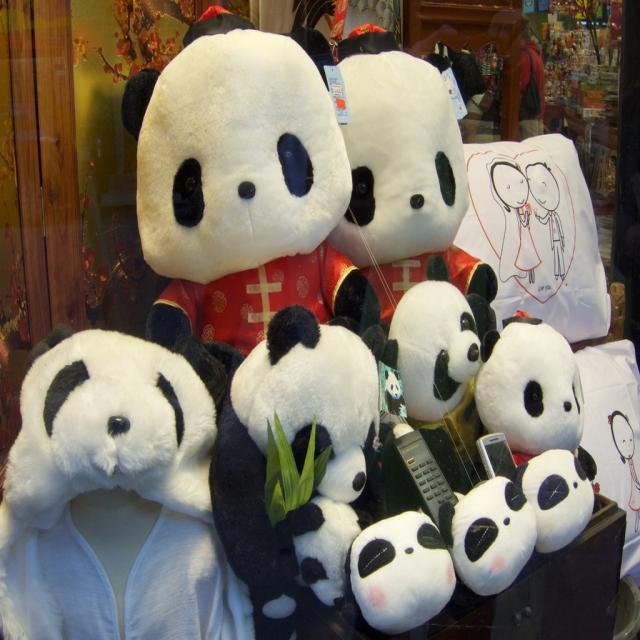panda: (142, 20, 374, 405), (213, 304, 385, 622), (322, 29, 496, 340), (474, 316, 592, 553), (394, 276, 496, 527)
